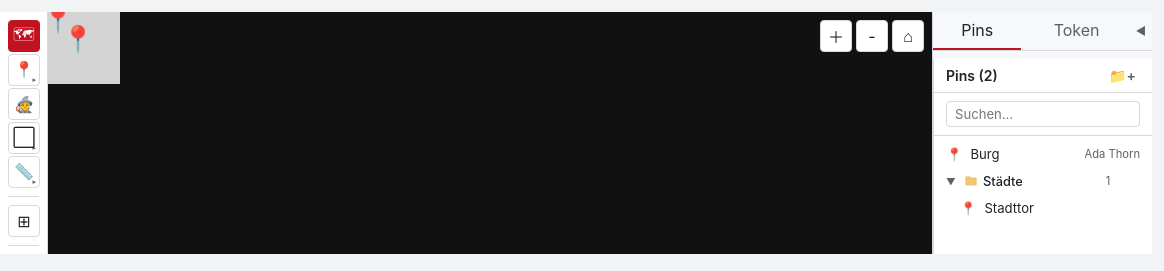
Scenario: PinTree via MapViewer — Suchfeld › Suchfeld filtert Pins — nur "Burg" bleibt, "Stadttor" verschwindet
Type "Burg" into the search field.
click(1043, 114); type("Burg")  # box [946,101,1140,127]
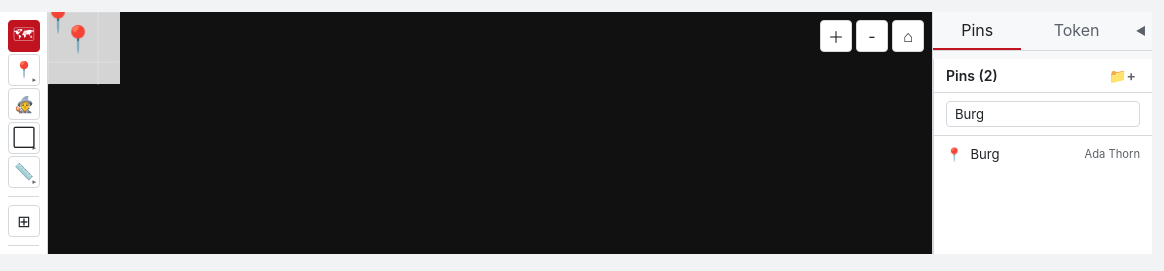
Expected: the text "Burg" is shown, [970,146,1000,162]
Now the button "Stadttor" is gone
